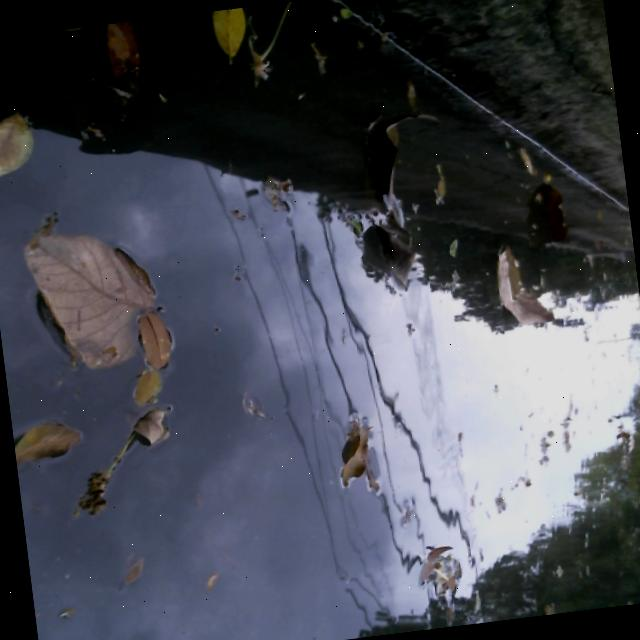Big-leaf: (12, 208, 151, 373), (347, 99, 445, 218), (480, 234, 563, 335), (359, 219, 429, 296), (527, 174, 577, 249)
Small-leaf: (88, 20, 155, 135), (238, 1, 305, 88), (69, 449, 142, 523), (10, 414, 85, 467), (123, 399, 185, 463), (328, 418, 380, 494), (407, 536, 458, 596), (0, 110, 46, 176), (200, 7, 251, 63), (136, 302, 178, 370), (256, 166, 297, 219), (226, 382, 272, 427), (112, 545, 151, 594), (126, 364, 167, 406), (303, 41, 332, 75), (508, 144, 538, 176), (197, 565, 225, 599), (400, 76, 424, 106), (440, 236, 464, 261)
